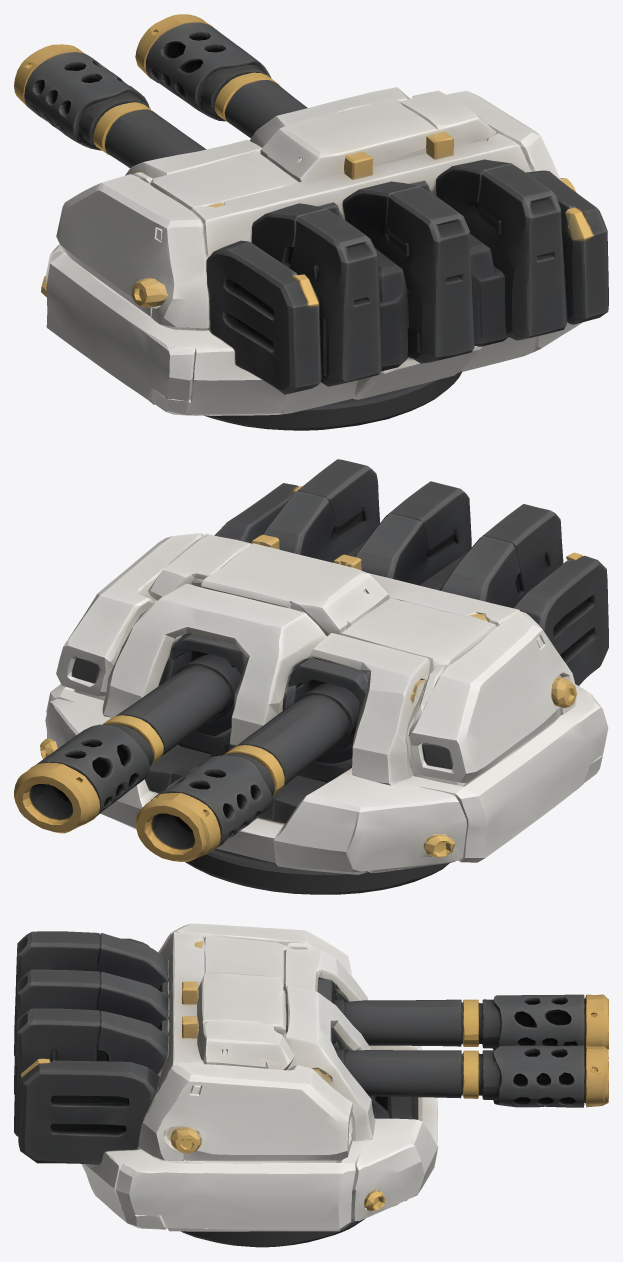
File: autocannon.glb
3 views of the same model, one above another, from view 1: azimuth 30°, elevation 25°; view 2: azimuth 150°, elevation 25°; view 3: azimuth 270°, elevation 25° (orthographic). The views are drawn at different scales.
Parts seen in each view (by area): view 1: Body, Barrel2, Barrel0; view 2: Body, Barrel2, Barrel0; view 3: Body, Barrel0, Barrel2.
Part boxes in pixels (<box>): Body: <box>41,87,608,430</box>; Barrel2: <box>14,44,206,168</box>; Barrel0: <box>135,14,307,138</box>; Body: <box>40,459,608,894</box>; Barrel2: <box>135,657,367,861</box>; Barrel0: <box>14,633,246,833</box>; Body: <box>14,923,438,1247</box>; Barrel0: <box>330,1027,608,1107</box>; Barrel2: <box>317,979,608,1050</box>.
Bounding box in the file's own units: 1.32 × 0.7227 × 1.8.
Materials: 3 (3 with a texture image).
